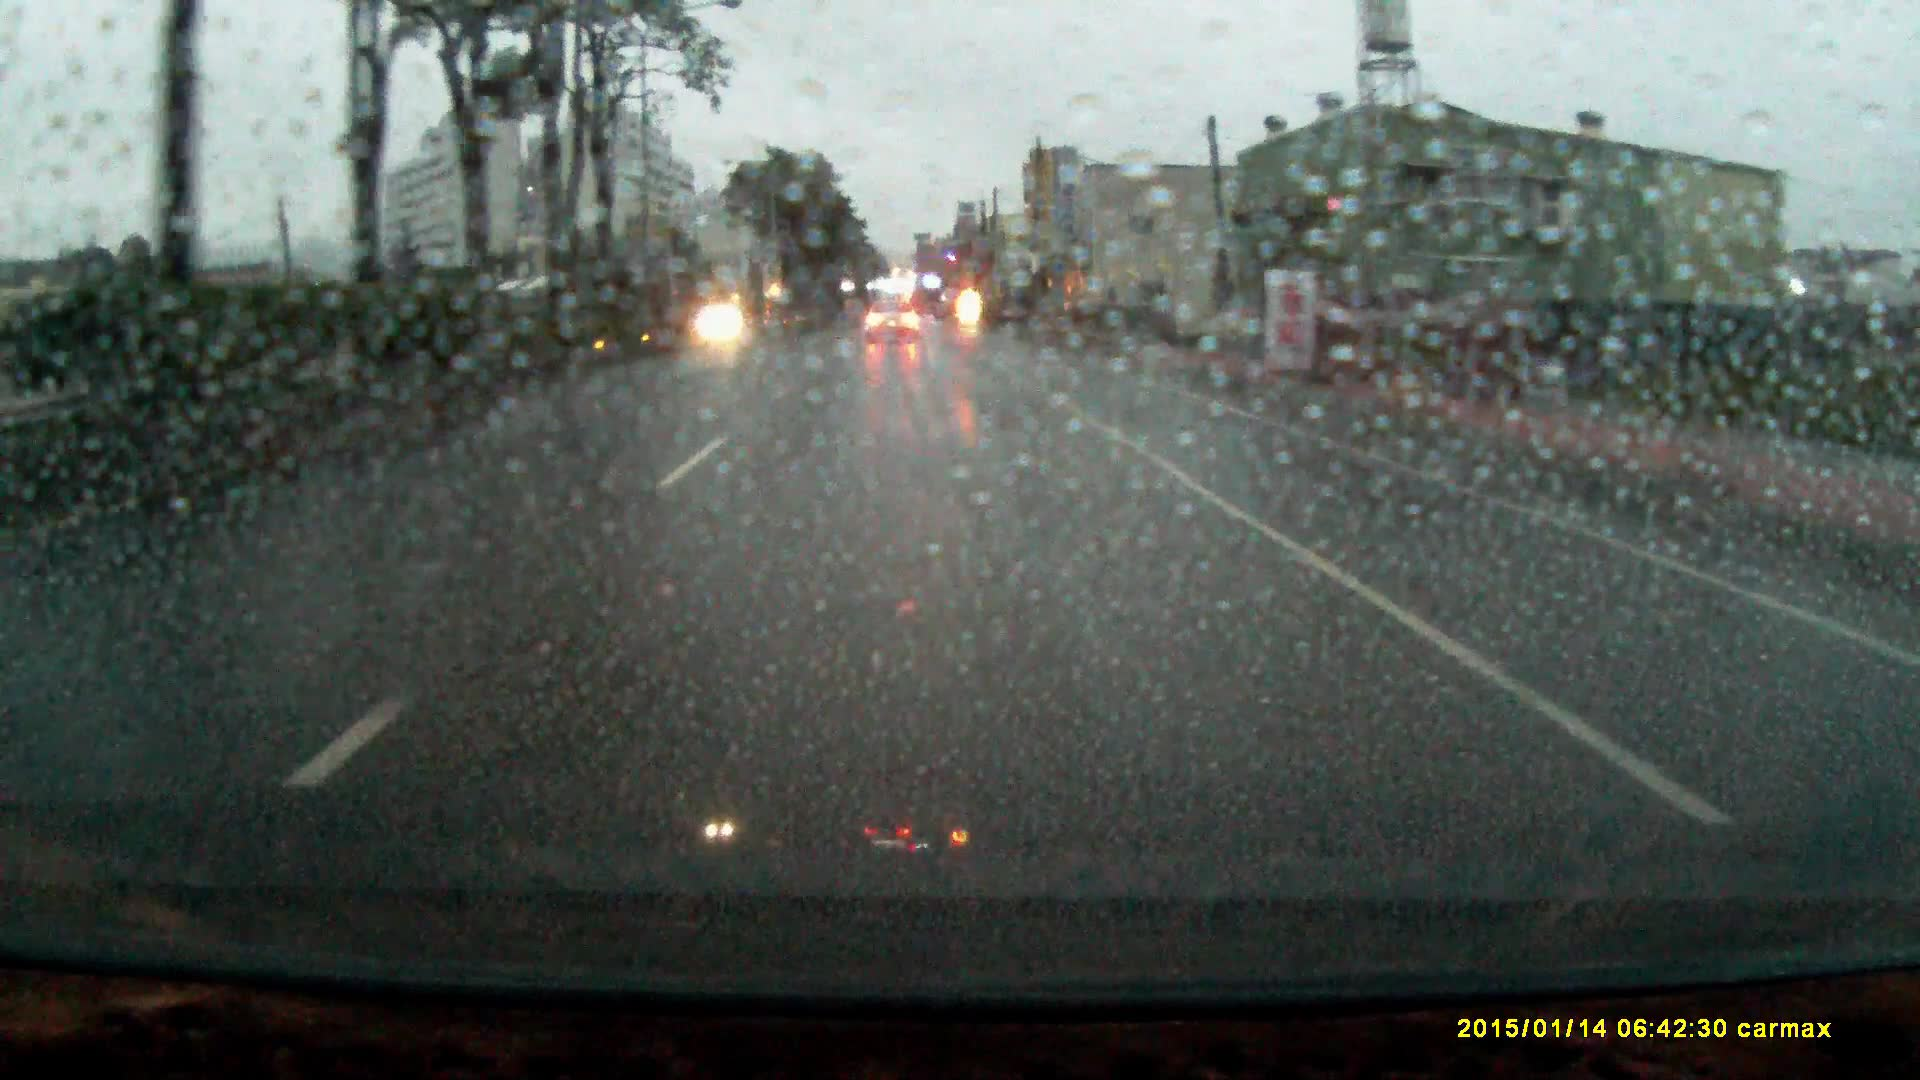vehicle: (865, 297, 920, 340)
